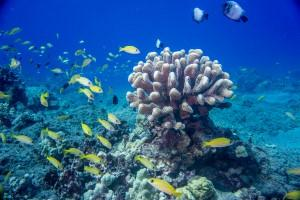bleached_corals: (113, 27, 239, 138)
